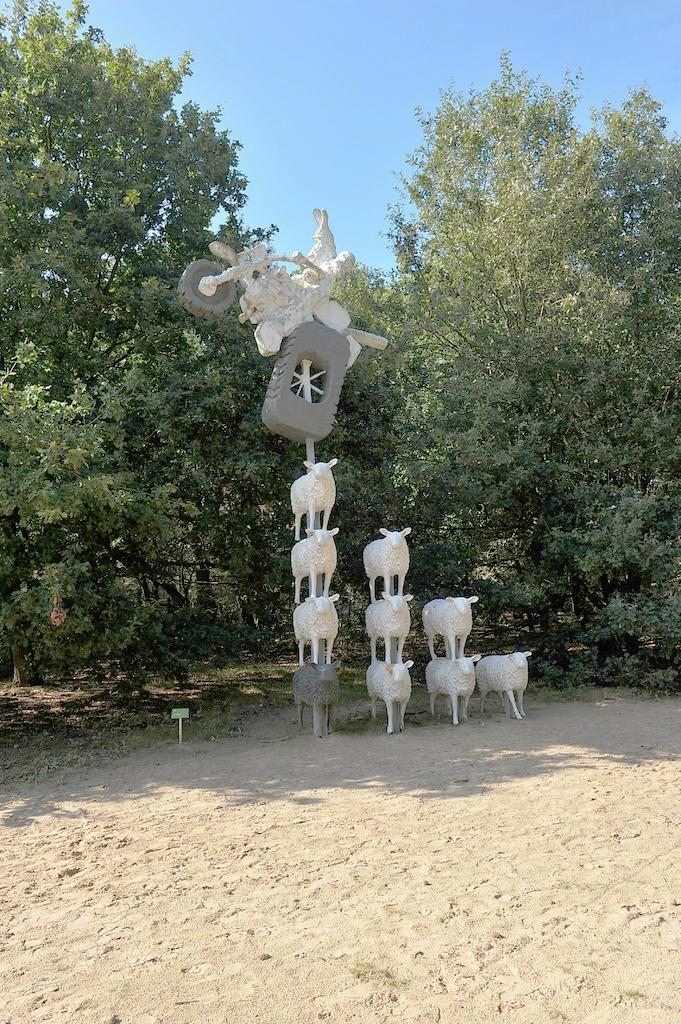Sheep: (469, 648, 556, 730), (424, 654, 480, 724), (362, 528, 414, 601), (292, 456, 338, 536), (423, 594, 481, 657), (365, 590, 412, 664), (292, 528, 338, 603), (367, 659, 412, 732), (294, 662, 338, 736), (294, 592, 338, 662)
